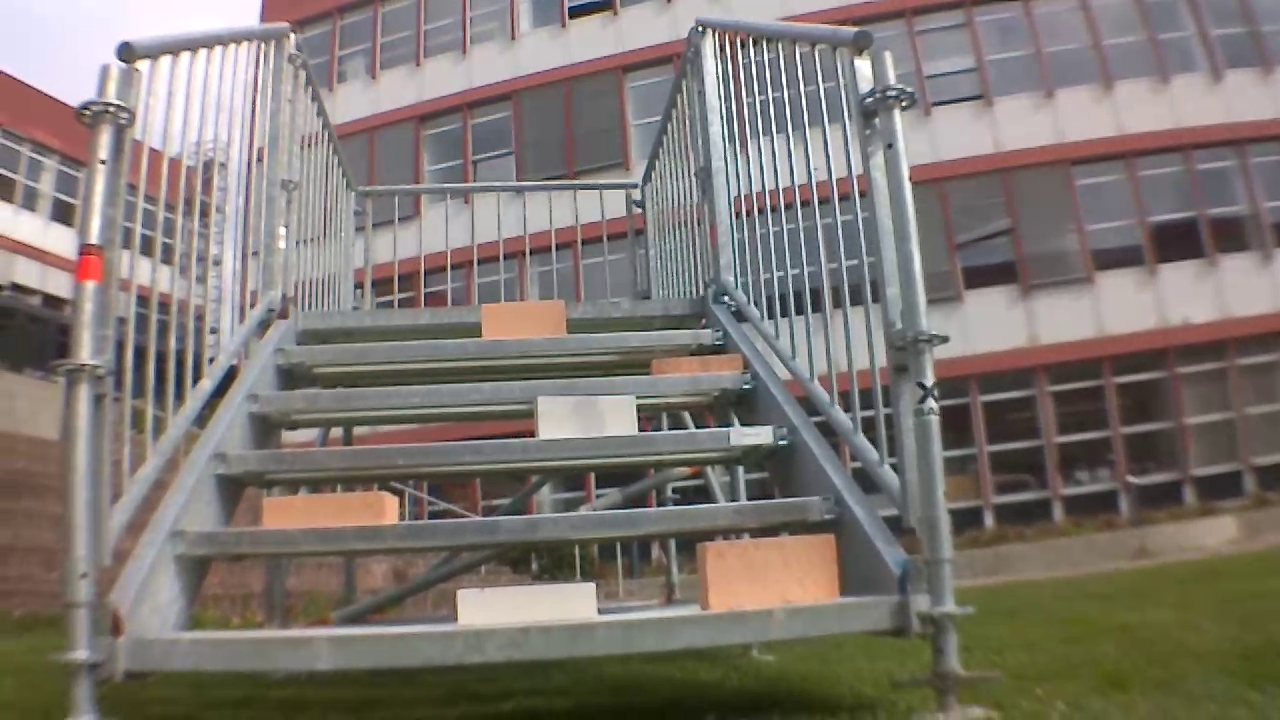brick: (692, 533, 844, 606), (452, 586, 599, 628), (261, 493, 408, 529), (542, 394, 642, 438), (481, 298, 568, 336), (647, 354, 743, 380)
edge: (111, 600, 903, 681), (171, 495, 839, 559), (213, 427, 793, 478), (247, 370, 754, 412), (267, 334, 726, 361), (296, 294, 703, 323)
stairs: (83, 18, 911, 703)
steps: (103, 297, 892, 679)
